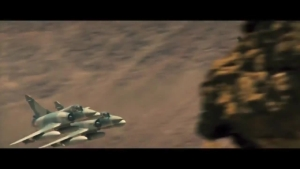flight: (8, 94, 97, 147), (60, 110, 127, 148)
